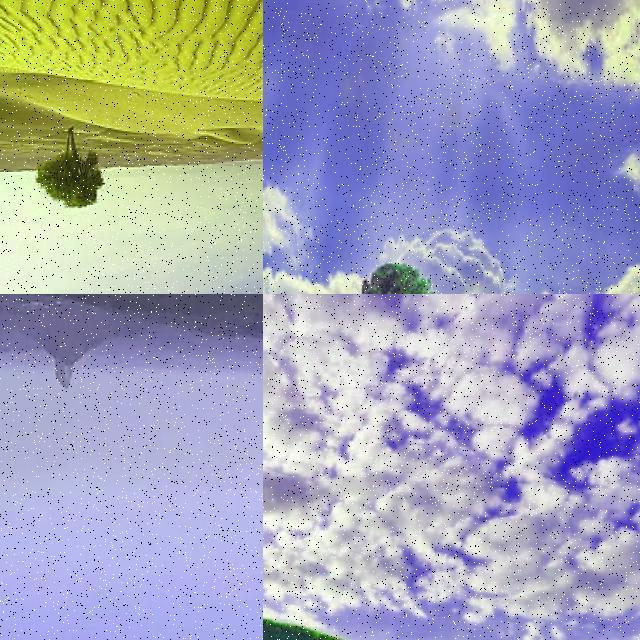tree: (185, 294, 262, 640), (30, 120, 100, 228), (349, 258, 439, 294)
